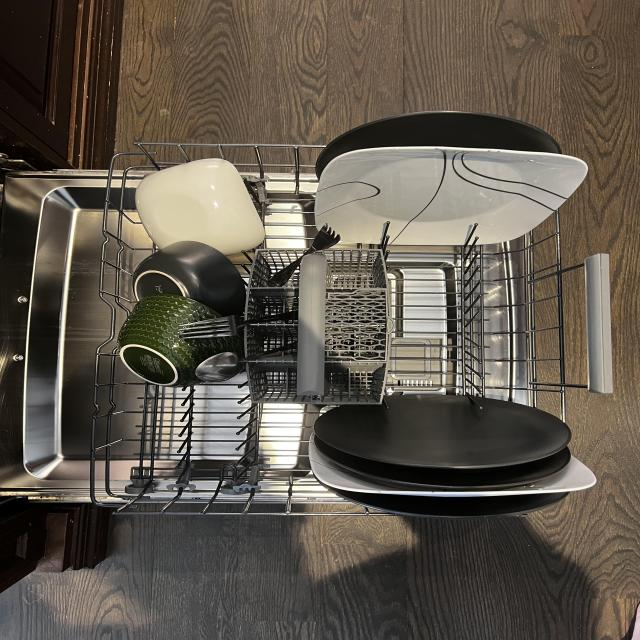Bowl: (114, 294, 242, 389)
Fork: (262, 219, 342, 287), (178, 310, 299, 340)
Plate: (316, 144, 589, 246), (313, 388, 572, 469)
Spoon: (193, 340, 300, 382)
